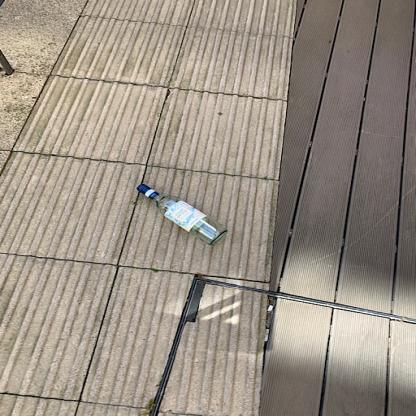trash: (132, 179, 230, 249)
